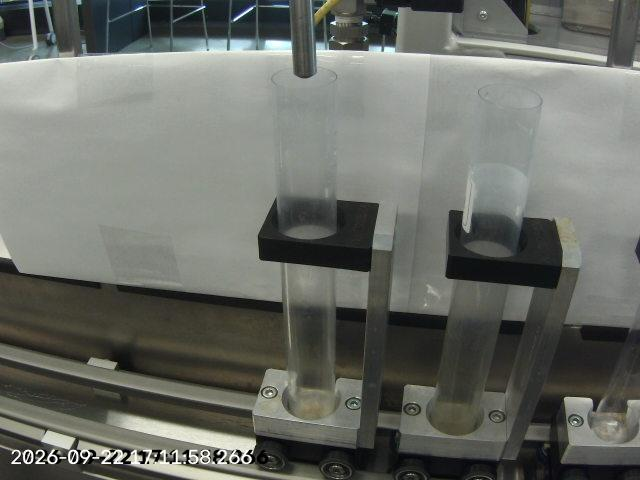vial: (423, 75, 547, 436), (267, 68, 345, 425)
